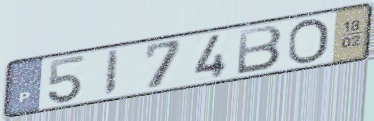4: (191, 32, 230, 80)
5: (44, 53, 87, 105)
7: (142, 37, 186, 92)
B: (234, 23, 285, 77)
I: (101, 47, 122, 98)
O: (285, 17, 331, 67)
